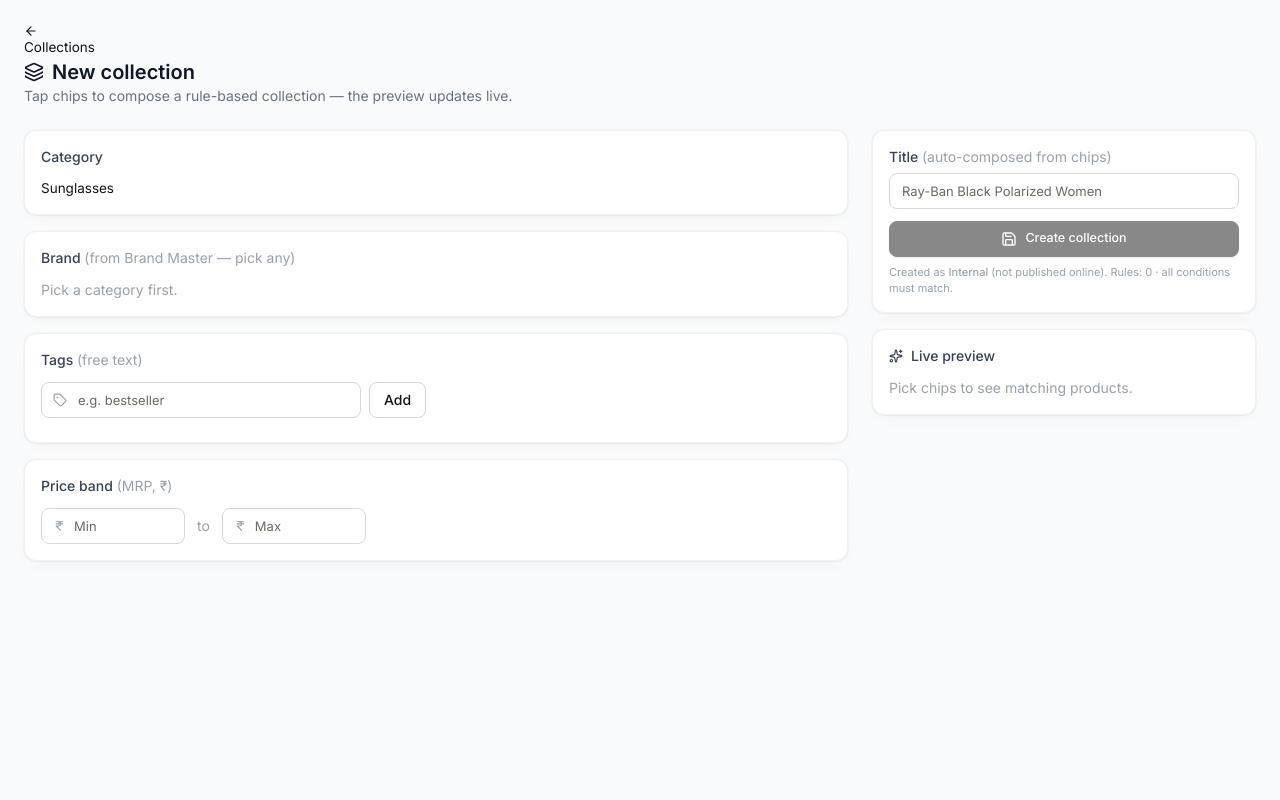
Scenario: New Collection: rules the website cannot read › shows the reason and keeps Create off
The width and height of the screenshot is (1280, 800).
What coordinates should you click on to do the following:
click the button "Sunglasses"
I would click on:
 (78, 188)
Its box is [41,179,114,198].
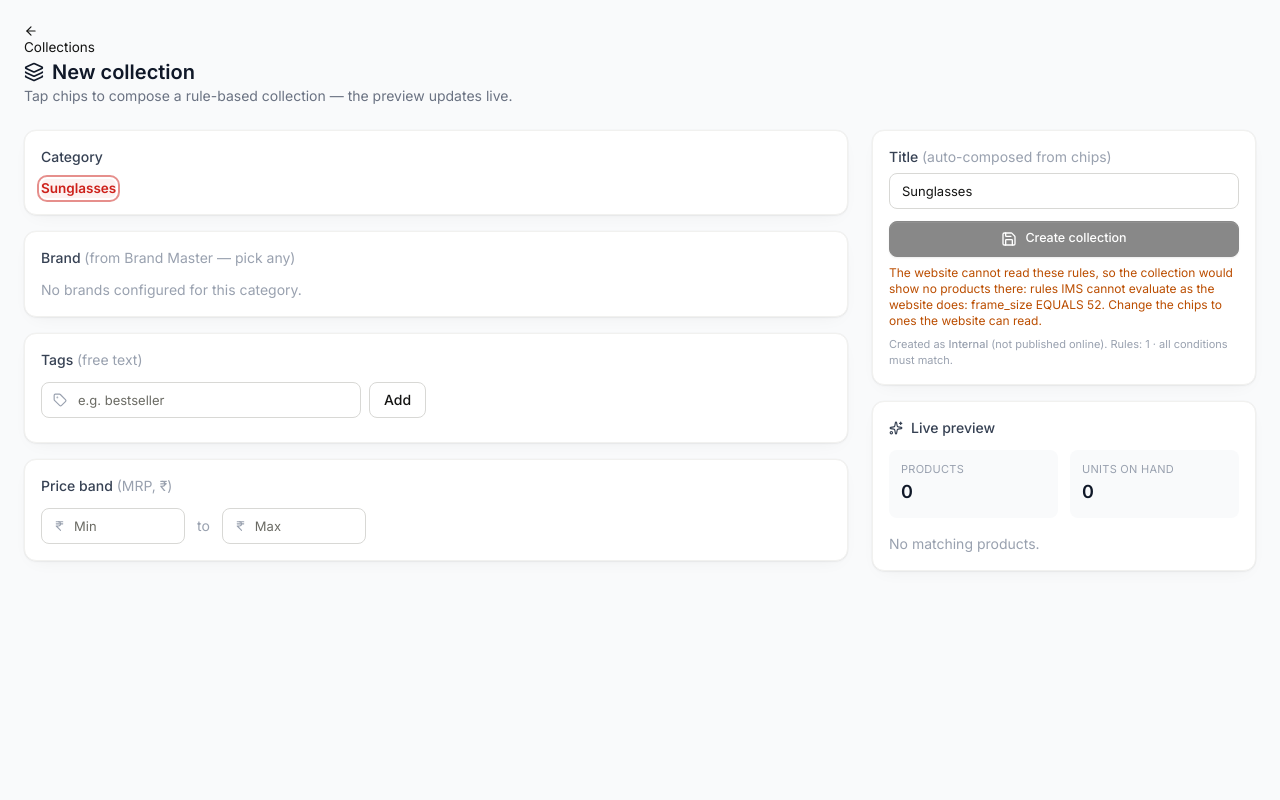
Expected: the button "Create collection" is disabled, [889,221,1239,257]
Now the text with test id "not-evaluable-warning" shows "frame_size EQUALS 52", box [889,281,1214,312]
